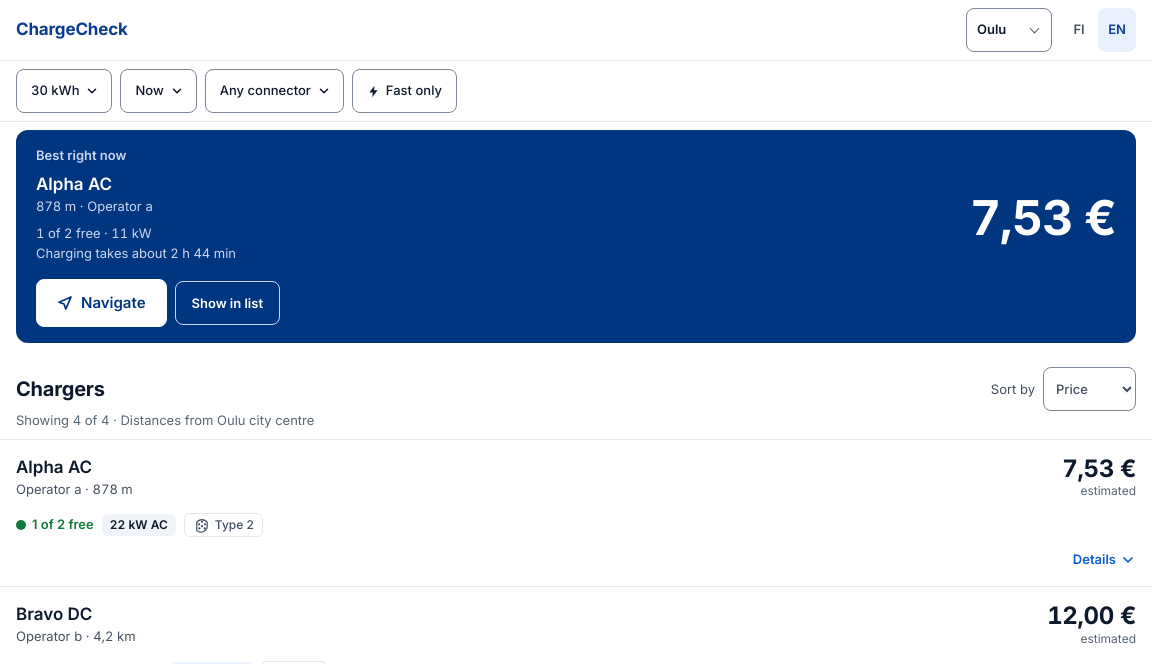
App › shows live availability with its age and flags stale statuses
Check: the element "Alpha AC" is shown, box [0, 440, 1151, 587]
Check: the text "1 of 2 free" is shown, box [16, 515, 94, 535]
Click the button named "Details: Alpha AC": (1104, 560) [1065, 538, 1144, 582]
(page scrolled)
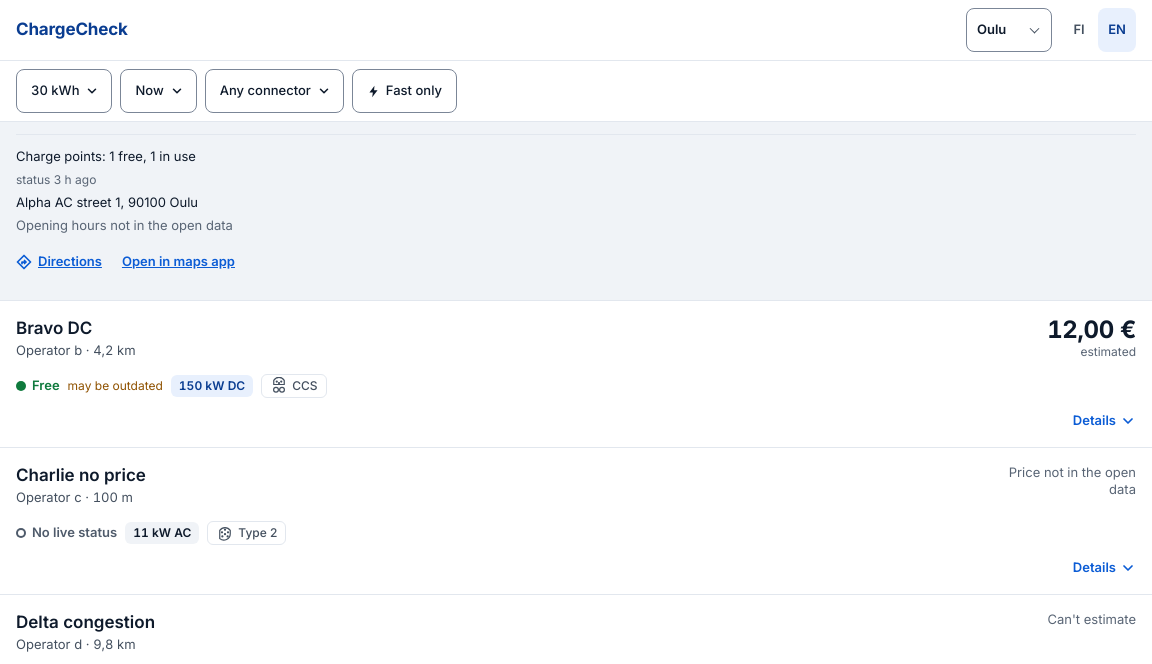
Check: the element "Alpha AC" shows "1 free, 1 in use", box [109, 148, 196, 164]
Check: the element "Alpha AC" shows "status 3 h ago", box [16, 172, 96, 187]
Click the button named "Details: Bravo DC": (1104, 421) [1065, 399, 1144, 443]
(page scrolled)
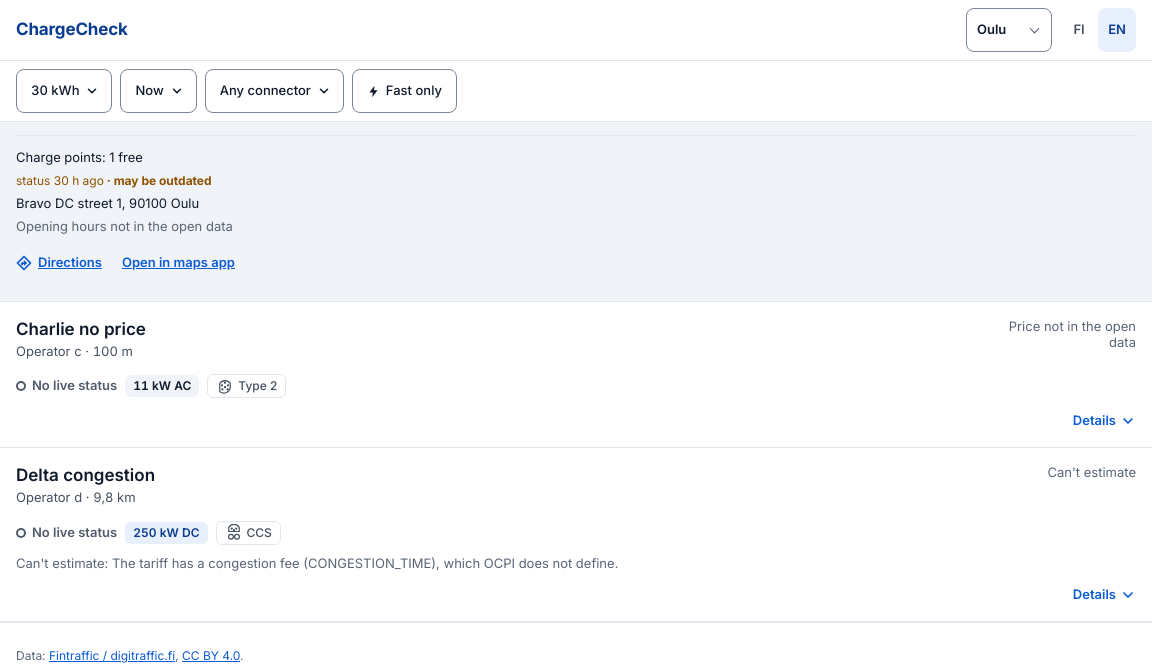
Check: the element "Charlie no price" shows "No live status", box [32, 377, 117, 393]
Check: the element "Bravo DC" shows "status 30 h ago", box [16, 172, 104, 188]
Click the button named "Details: Charlie no price": (1104, 421) [1065, 399, 1144, 443]
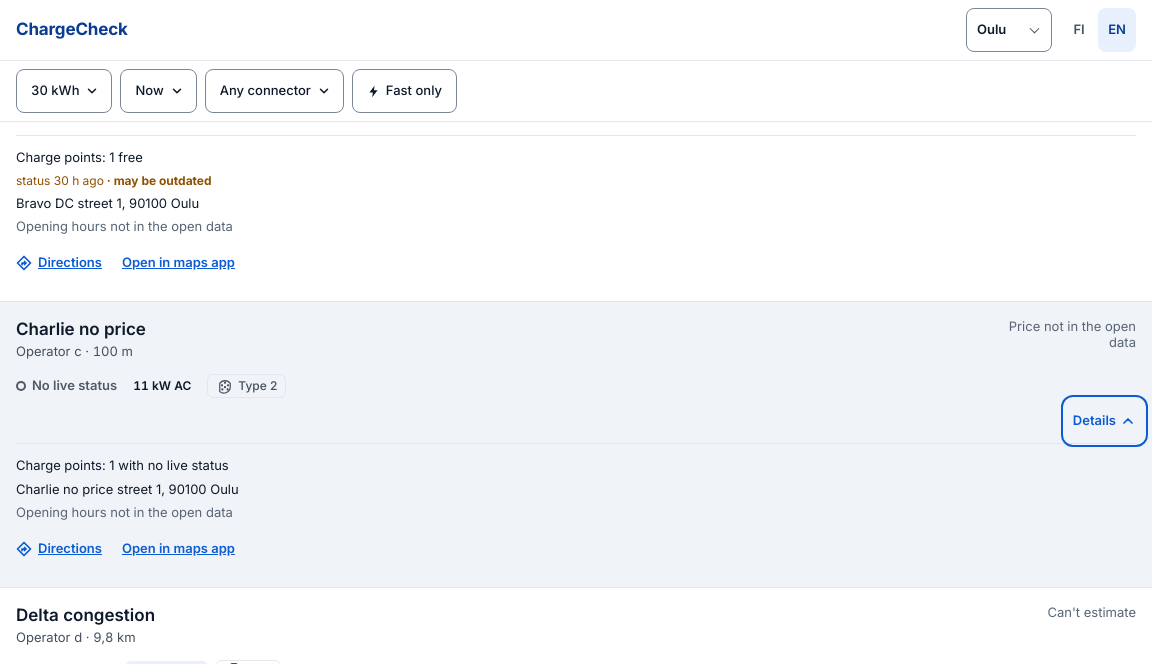
Check: the element "Charlie no price" shows "1 with no live status", box [109, 457, 229, 473]
